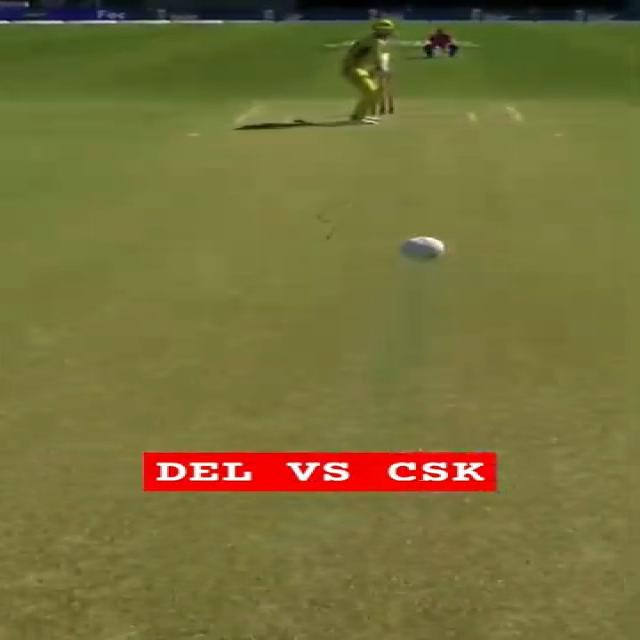ball: (396, 235, 455, 263)
